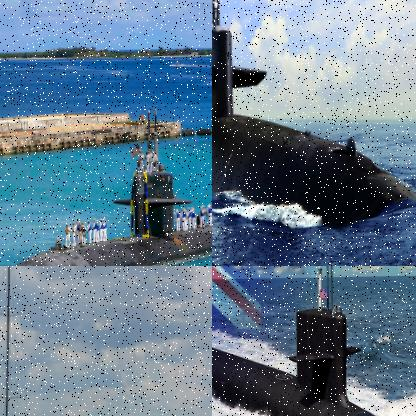Sails Boat: (0, 266, 31, 415)
Submarine: (212, 0, 415, 233), (0, 104, 211, 265), (212, 266, 415, 415)
